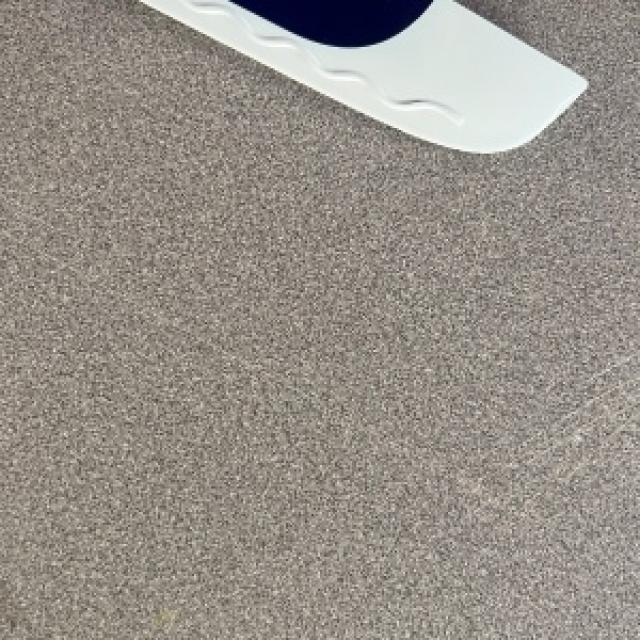healthy: (139, 0, 582, 151)
